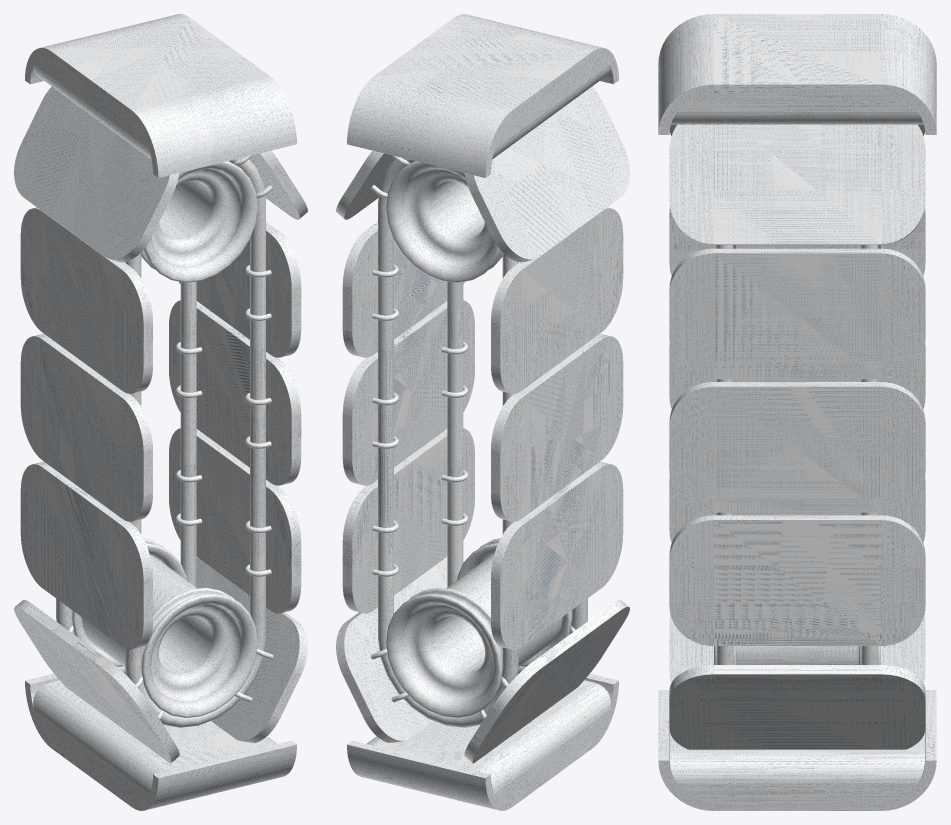
Rendered from scroll bar_3.dae.
3 renders of one model, left to right at view 1: azimuth 30°, elevation 25°; view 2: azimuth 150°, elevation 25°; view 3: azimuth 270°, elevation 25°, orthographic. The views are drawn at different scales.
Parts seen in each view (by area): view 1: Board (×10), Frame (×2), Shaft (×2), Transmission_Rubber_Cord (×2), Soft_Cushion (×2), Guide_Wheel (×3); view 2: Board (×10), Frame (×2), Shaft (×2), Transmission_Rubber_Cord (×2), Soft_Cushion (×2), Guide_Wheel (×3); view 3: Board (×9), Frame (×2), Soft_Cushion (×2), Shaft, Transmission_Rubber_Cord (×2).
Part boxes in pixels (bbox=[...]): Board (×10): bbox=[14, 86, 307, 763]; Frame (×2): bbox=[25, 14, 296, 810]; Shaft (×2): bbox=[81, 168, 241, 702]; Transmission_Rubber_Cord (×2): bbox=[56, 158, 265, 727]; Soft_Cushion (×2): bbox=[33, 58, 276, 800]; Guide_Wheel (×3): bbox=[72, 161, 257, 717]; Board (×10): bbox=[336, 86, 629, 763]; Frame (×2): bbox=[347, 14, 618, 810]; Shaft (×2): bbox=[402, 168, 562, 702]; Transmission_Rubber_Cord (×2): bbox=[378, 158, 587, 727]; Soft_Cushion (×2): bbox=[367, 58, 610, 800]; Guide_Wheel (×3): bbox=[386, 161, 571, 717]; Board (×9): bbox=[669, 124, 925, 749]; Frame (×2): bbox=[658, 14, 936, 810]; Soft_Cushion (×2): bbox=[670, 94, 924, 800]; Shaft: bbox=[736, 646, 858, 664]; Transmission_Rubber_Cord (×2): bbox=[716, 245, 877, 664].
Bounding box in the file's own units: 16.55 × 19.7 × 56.74.
